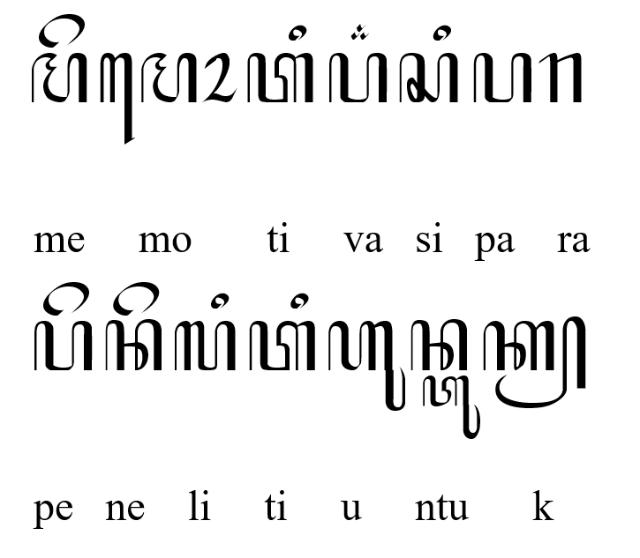-k: (483, 316, 587, 410)
alt: (350, 24, 370, 40)
e: (41, 281, 90, 317), (38, 13, 86, 49), (112, 282, 160, 317)
e1: (99, 51, 135, 145)
hu: (327, 318, 407, 412)
i: (432, 24, 452, 42), (210, 292, 230, 310), (288, 24, 306, 42), (290, 293, 308, 310)
l: (173, 319, 237, 372)
m: (31, 50, 89, 104), (140, 52, 198, 104)
n: (104, 319, 164, 372), (410, 319, 468, 373)
o: (202, 52, 238, 104)
p: (473, 51, 533, 105), (328, 52, 388, 104), (33, 320, 93, 371)
r: (538, 51, 584, 104)
s: (398, 52, 460, 104)
t: (246, 51, 314, 104), (248, 319, 316, 372)
tu: (421, 376, 481, 440)
